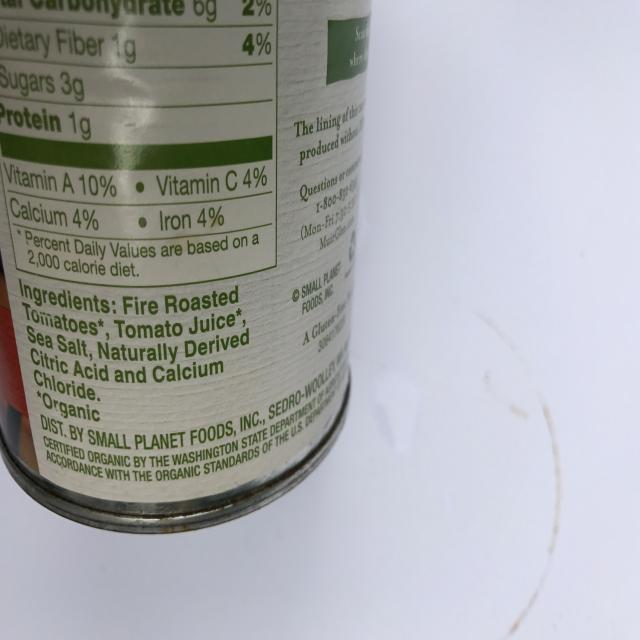metal: (0, 0, 372, 534)
